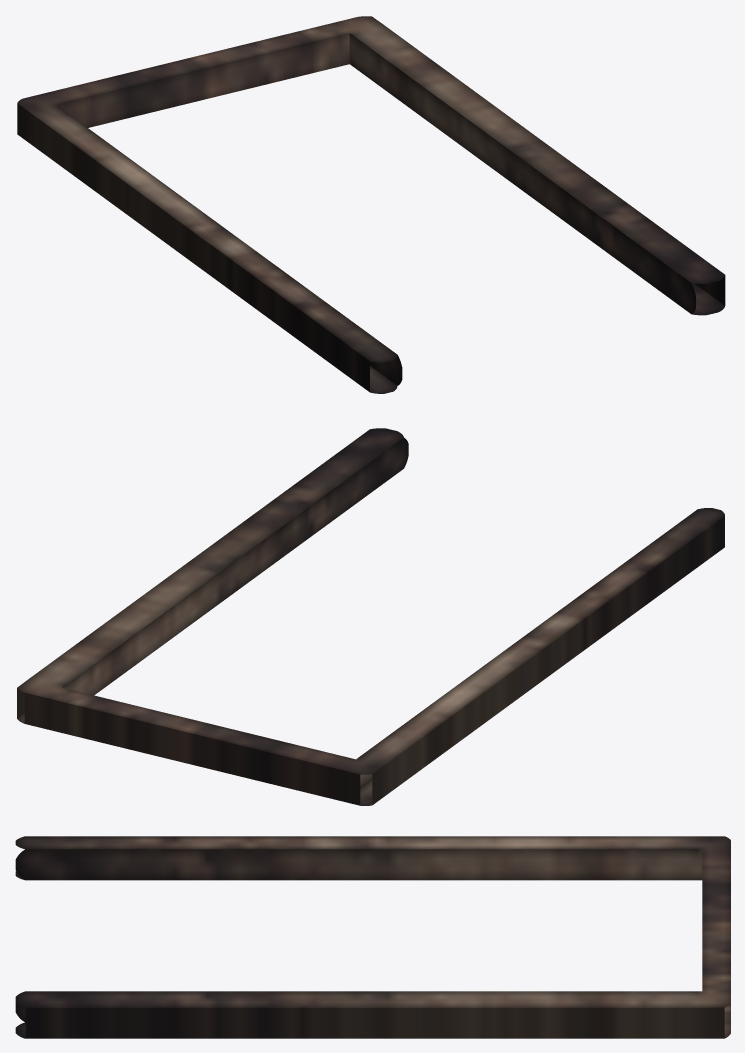
The model's file is SM_EC_House_DoorWay_0.fbx.
3 renders of one model, top to bottom at view 1: azimuth 30°, elevation 25°; view 2: azimuth 150°, elevation 25°; view 3: azimuth 270°, elevation 25°, orthographic.
Parts seen in each view (by area): view 1: SM_EC_House_DoorWay_0; view 2: SM_EC_House_DoorWay_0; view 3: SM_EC_House_DoorWay_0.
Part boxes in pixels (x1,y1,x2,y2): SM_EC_House_DoorWay_0: (17,16,725,393); SM_EC_House_DoorWay_0: (17,428,724,805); SM_EC_House_DoorWay_0: (15,836,730,1038).
Bounding box in the file's own units: 1.19 × 2.1 × 0.1.
